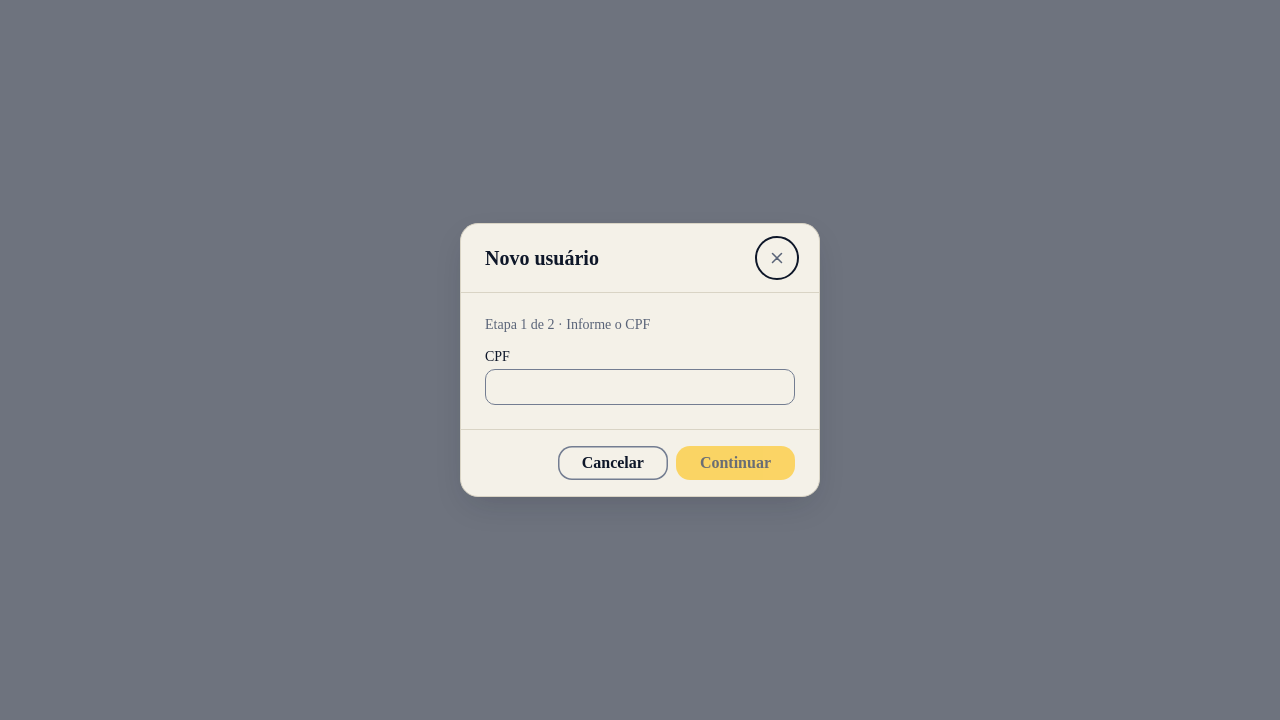
Test: NovoUsuarioModal › trocar o CPF depois do aviso libera a consulta de novo
In the field labelled "CPF": [640, 387] box [485, 369, 795, 405], type "529.982.247-25"
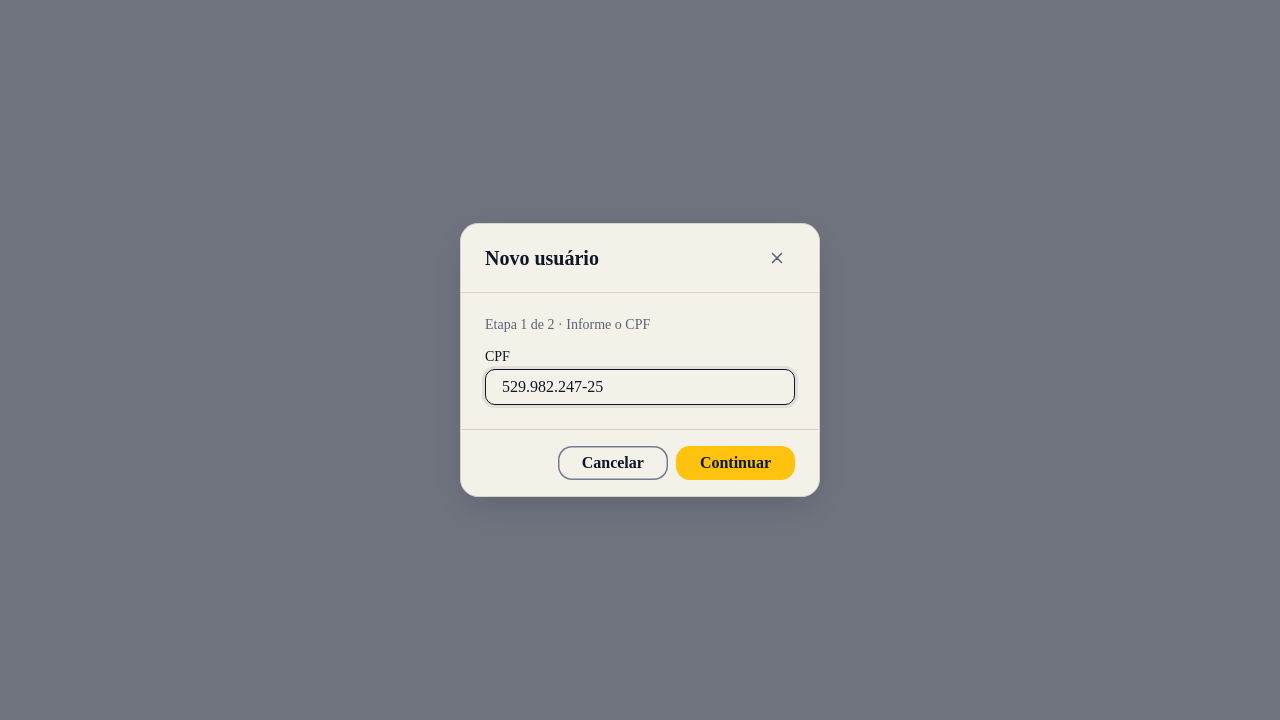
Click the button "Continuar": [735, 463] box [676, 446, 795, 480]
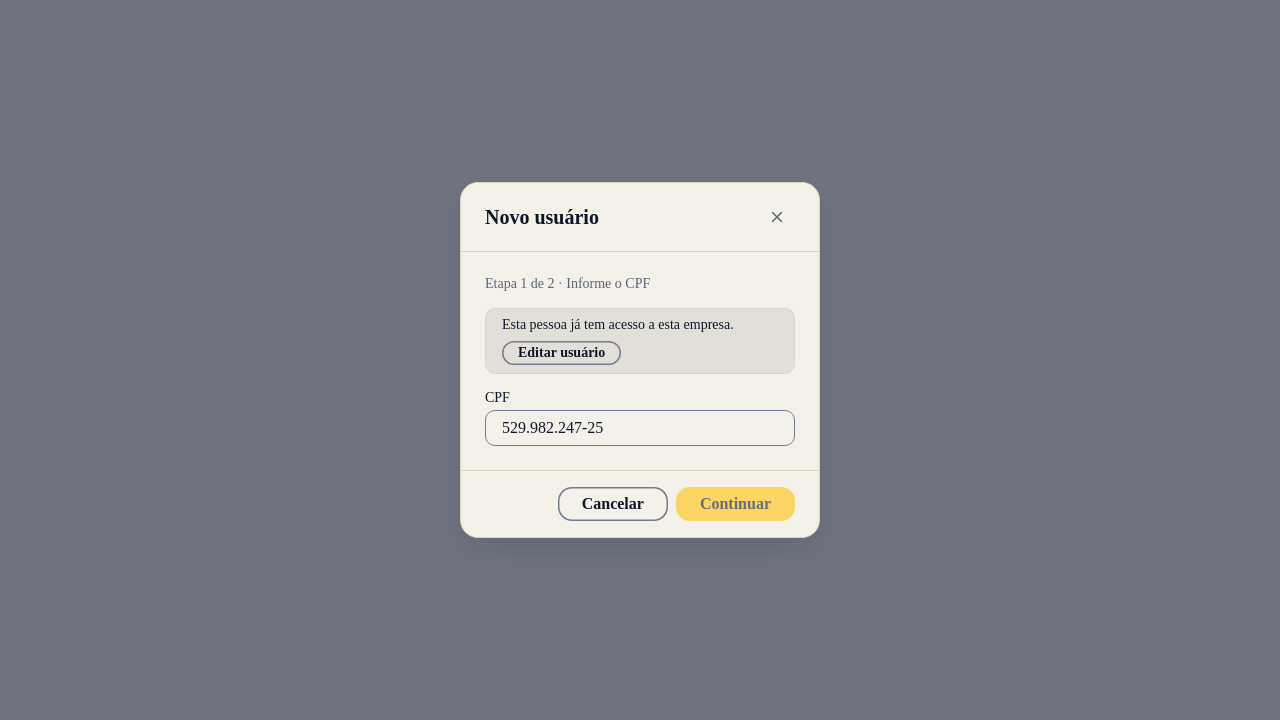
Expected: the text "Esta pessoa já tem acesso a esta empresa." is shown, [502, 317, 734, 333]
Clear the field labelled "CPF": [640, 428] box [485, 410, 795, 446]
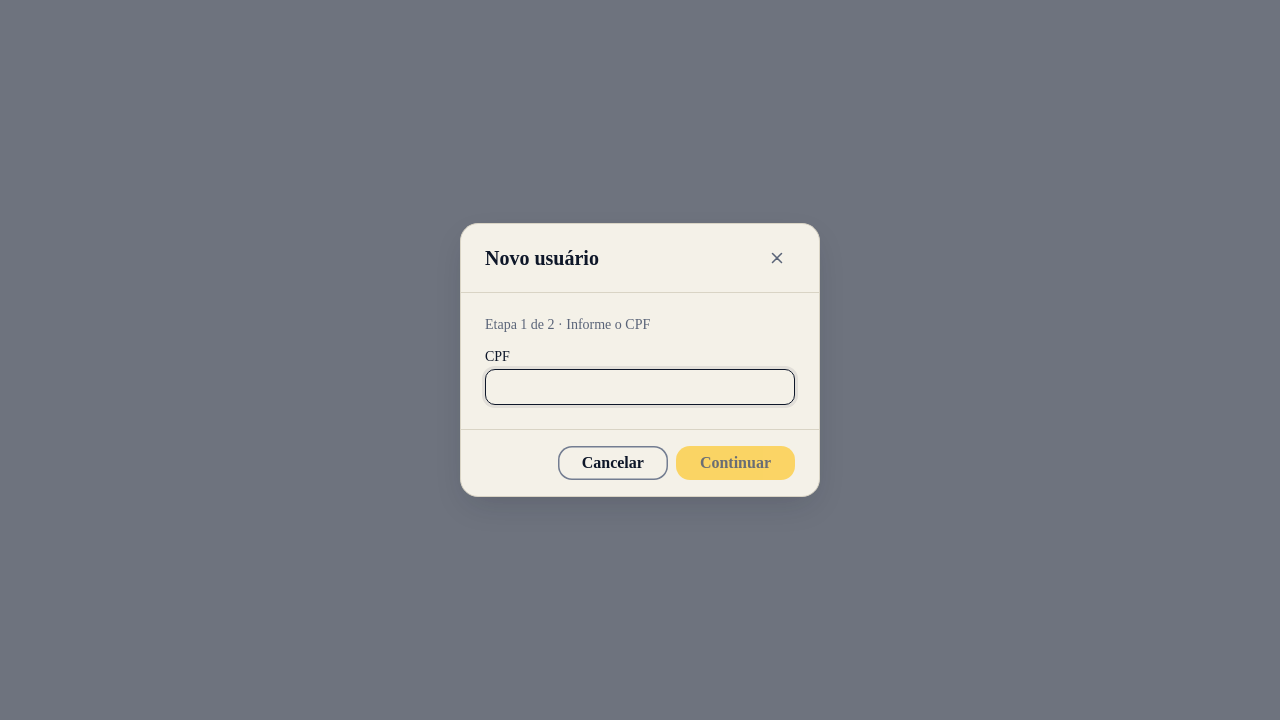
Expected: the text "Esta pessoa já tem acesso a esta empresa." is gone
